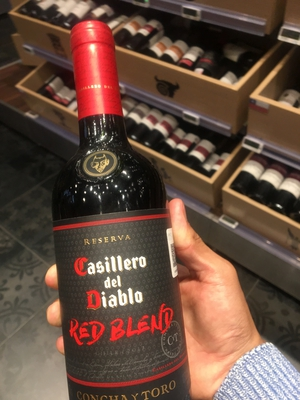casillero del diablo red blend: (51, 25, 189, 400)
